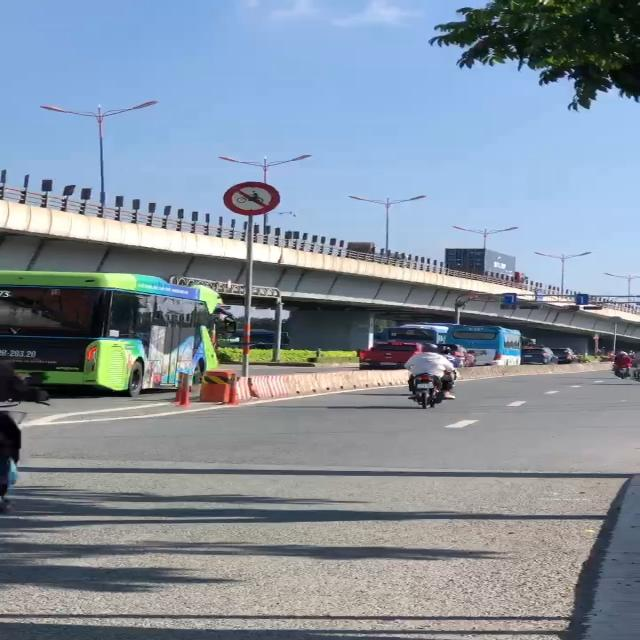Bien bao cam xe may: (217, 178, 286, 219)
